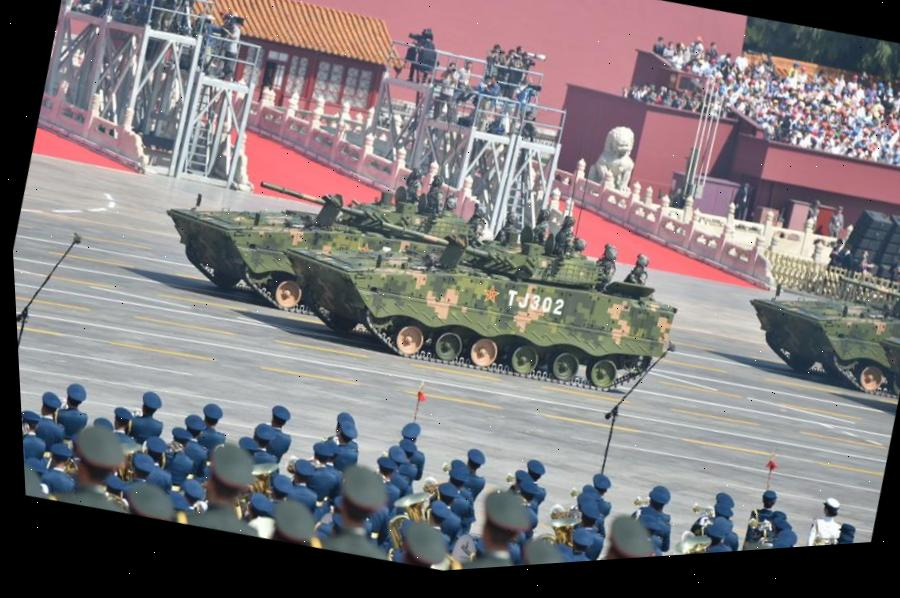armored_car: (260, 163, 692, 428), (140, 121, 566, 381)
